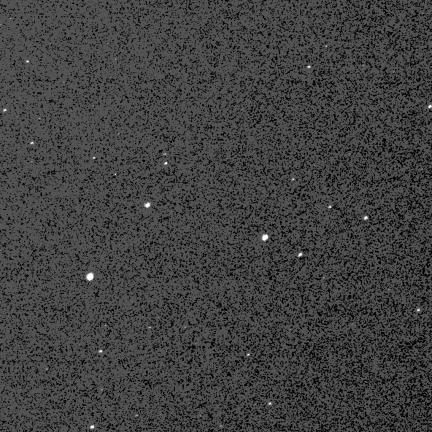blob: (87, 273, 94, 281), (262, 234, 268, 241), (145, 203, 151, 208), (298, 253, 302, 257), (364, 216, 368, 220), (3, 109, 7, 113), (90, 425, 94, 429), (99, 350, 103, 354), (308, 66, 312, 69), (429, 105, 432, 109), (26, 61, 30, 64), (31, 142, 34, 145), (165, 162, 168, 165), (93, 157, 96, 160), (417, 308, 420, 311), (329, 206, 332, 209), (247, 354, 250, 356), (292, 179, 295, 181)
